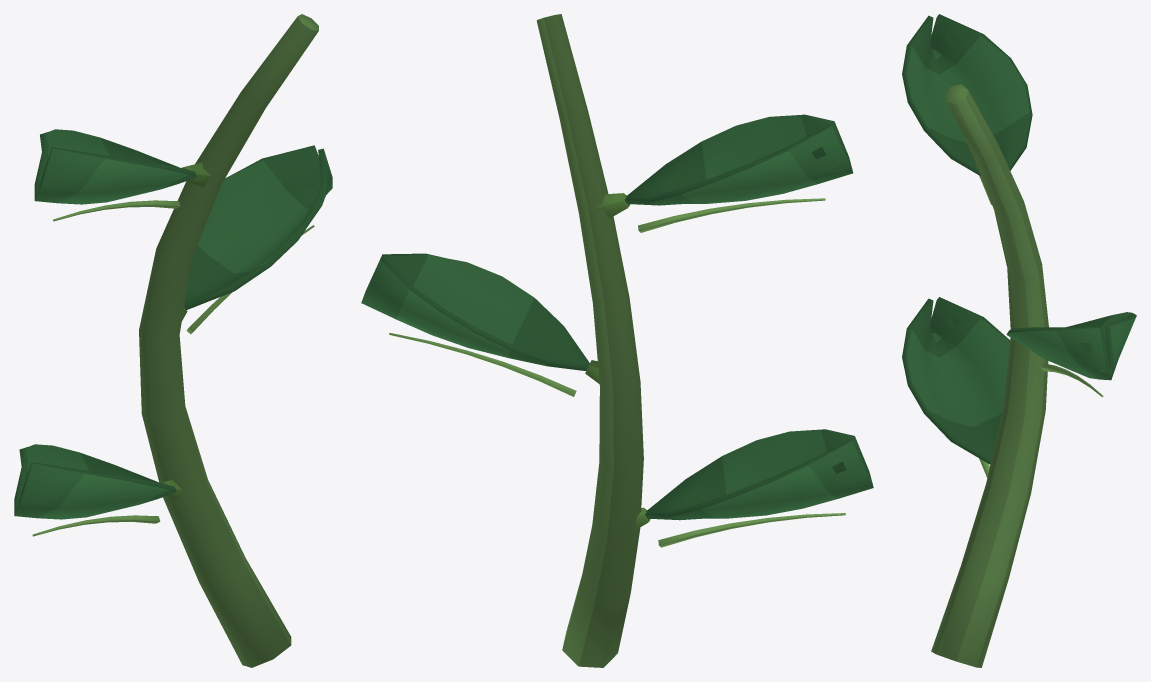
Rendered from garden-geranium-leaves-stem-1.glb.
3 views of the same model, side by side, from view 1: azimuth 30°, elevation 25°; view 2: azimuth 150°, elevation 25°; view 3: azimuth 270°, elevation 25° (orthographic). The views are drawn at different scales.
Visible parts, largest first — view 1: geranium-leaves-stem-1; view 2: geranium-leaves-stem-1; view 3: geranium-leaves-stem-1.
Part boxes in pixels (x1,y1,x2,y2): geranium-leaves-stem-1: [14, 14, 332, 667]; geranium-leaves-stem-1: [361, 14, 873, 667]; geranium-leaves-stem-1: [902, 14, 1136, 667].
Bounding box in the file's own units: 0.1158 × 0.1699 × 0.0601.
